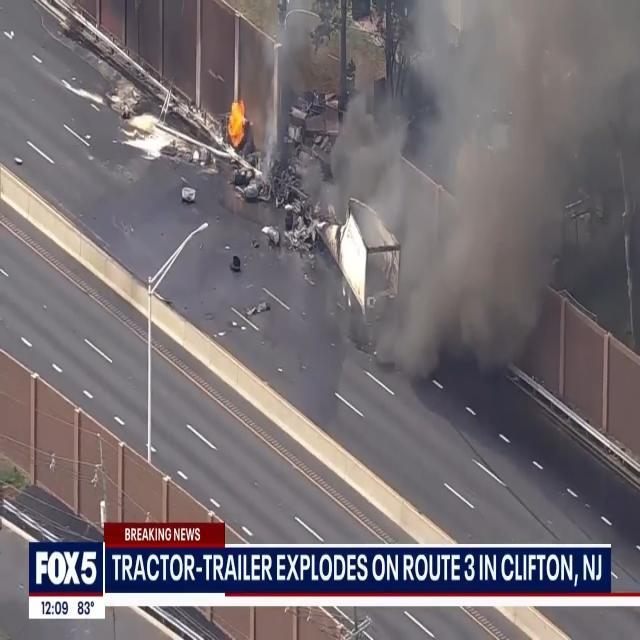fire: (224, 96, 250, 148)
